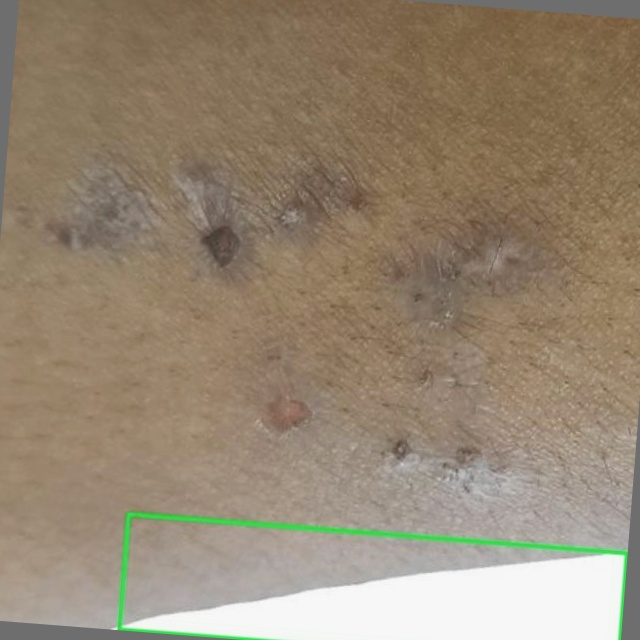Atopic Dermatitis: (119, 514, 626, 639)
